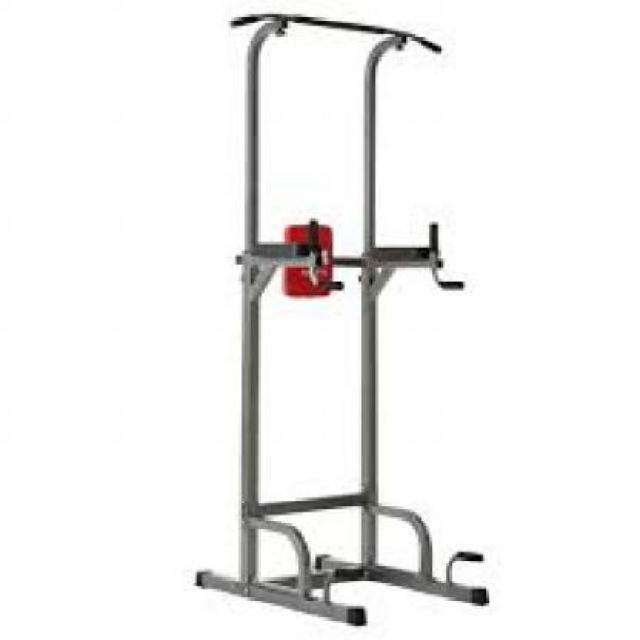chinning dipping: (195, 11, 492, 624)
